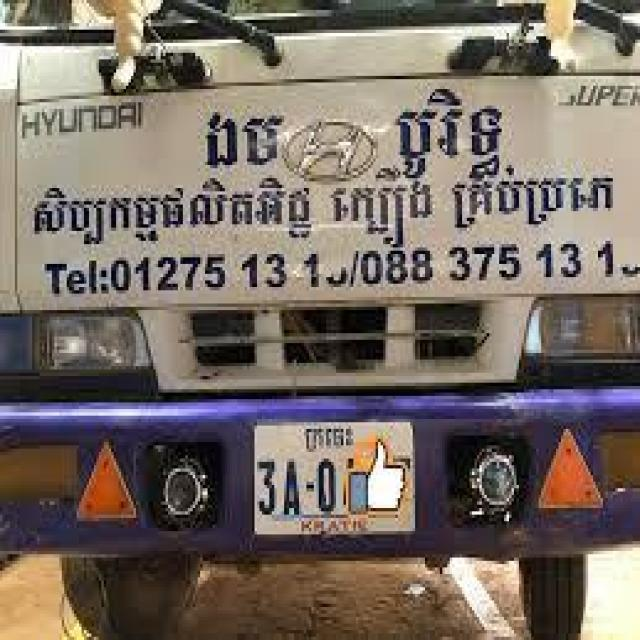Kratie: (304, 426, 354, 454)
